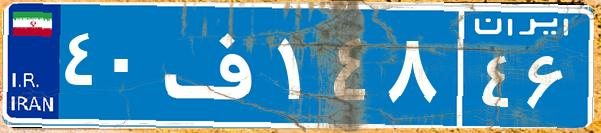0: (110, 28, 158, 105)
1: (273, 28, 330, 110)
4: (330, 28, 385, 110), (57, 26, 110, 107), (475, 38, 525, 113)
6: (525, 38, 570, 115)
8: (385, 28, 445, 110)
ف: (158, 15, 273, 115)
